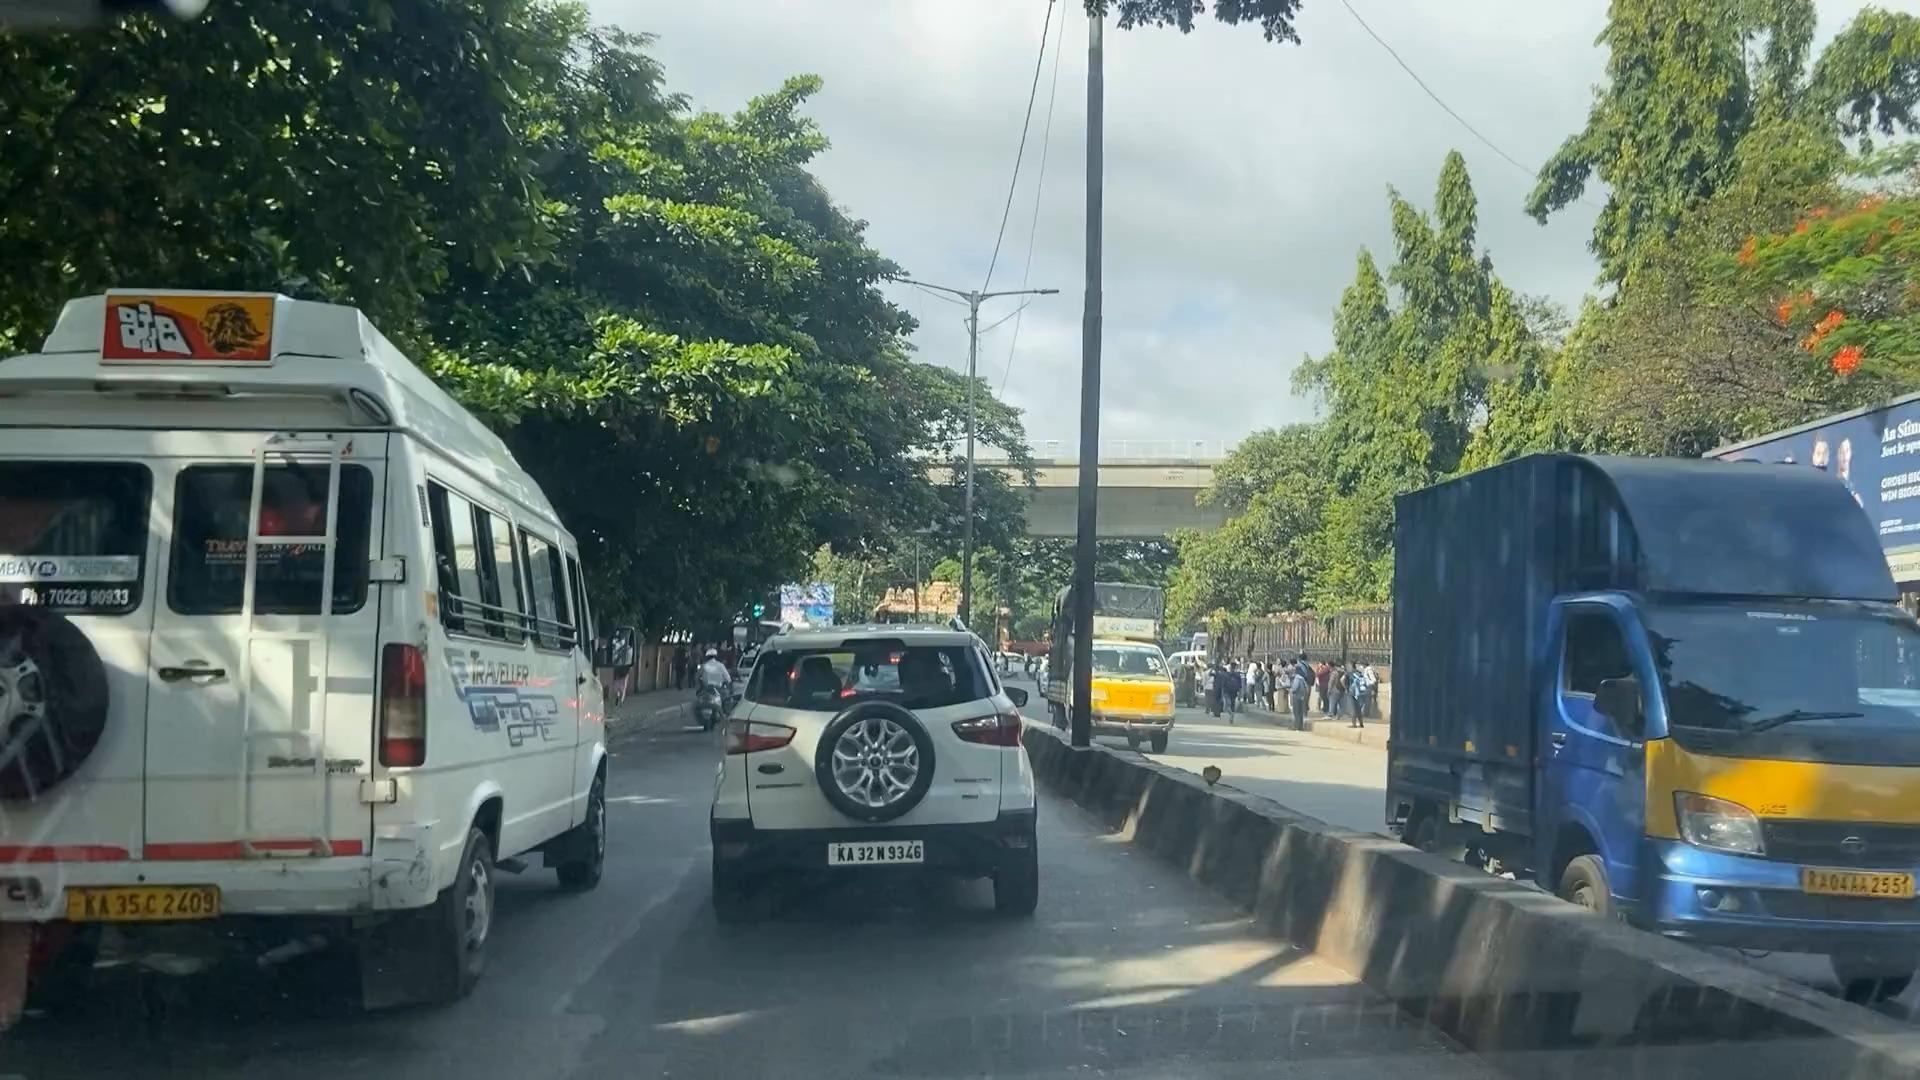HMV: (47, 273, 625, 1022)
LMV: (717, 608, 1059, 951)
